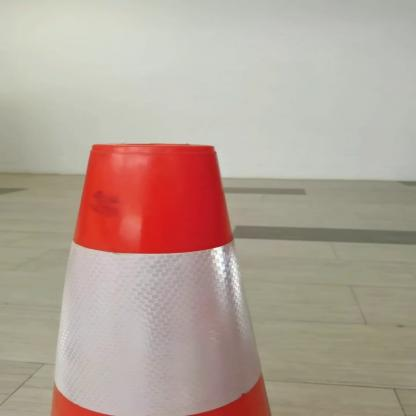cone: (29, 130, 326, 416)
